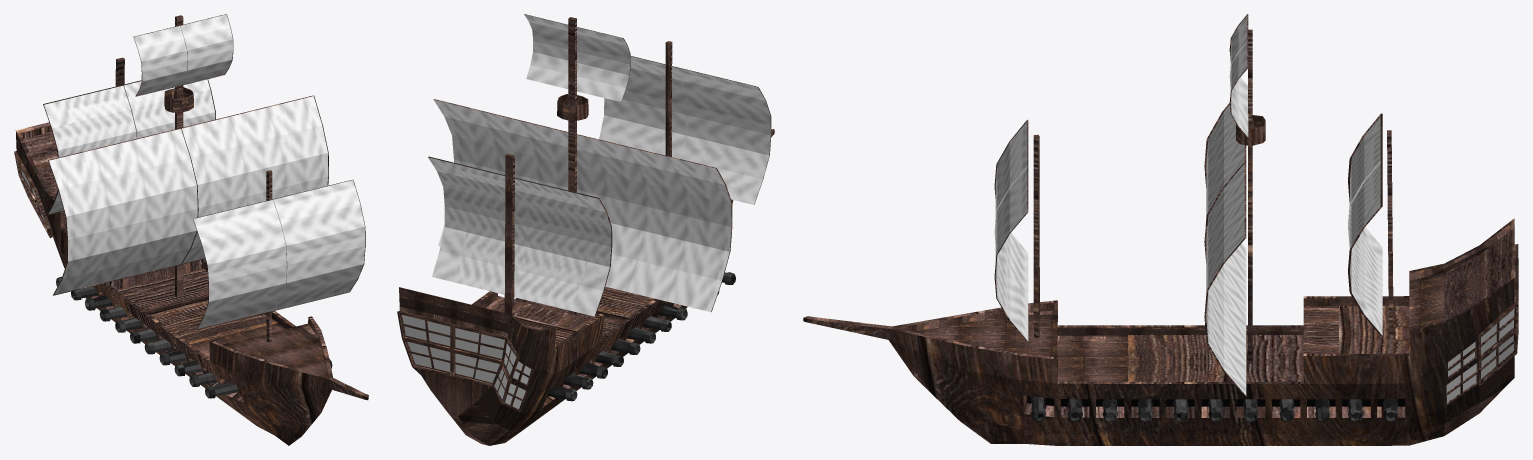
File: pirate_ship4.fbx
The picture shows the model from 3 angles, left to right: view 1: azimuth 30°, elevation 25°; view 2: azimuth 150°, elevation 25°; view 3: azimuth 270°, elevation 25°; orthographic projection. The views are drawn at different scales.
Visible parts, largest first — view 1: PirateShip; view 2: PirateShip; view 3: PirateShip.
Boxes of the visible parts, x1=… form: PirateShip: x1=14, y1=14, x2=368, y2=445; PirateShip: x1=397, y1=14, x2=774, y2=445; PirateShip: x1=803, y1=14, x2=1518, y2=445.
Bounding box in the file's own units: 515 × 647 × 1017.
